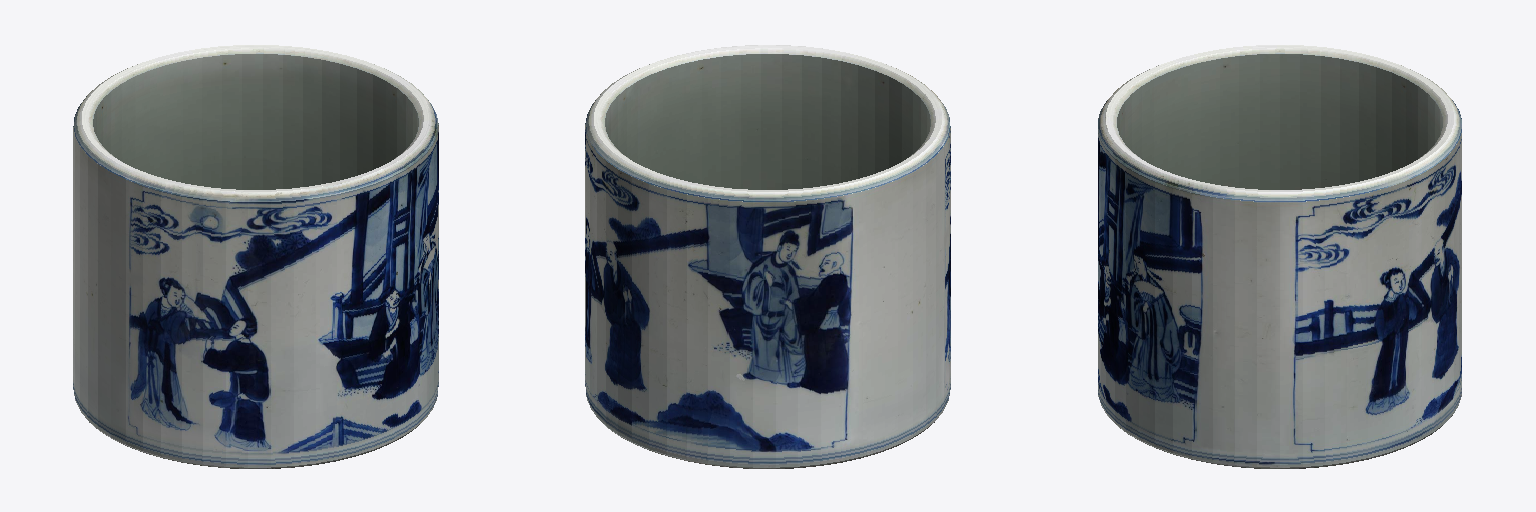
3 renders of one model, left to right at view 1: azimuth 30°, elevation 25°; view 2: azimuth 150°, elevation 25°; view 3: azimuth 270°, elevation 25°, orthographic.
Visible parts, largest first — view 1: Cylinder001; view 2: Cylinder001; view 3: Cylinder001.
Boxes of the visible parts, box(x1,y1,x2,y2) form: Cylinder001: box(73, 45, 438, 468); Cylinder001: box(585, 45, 950, 468); Cylinder001: box(1098, 45, 1461, 468).
Size of the model in its own units: 1.84 by 1.53 by 1.84.
Materials: 1 (1 with a texture image).